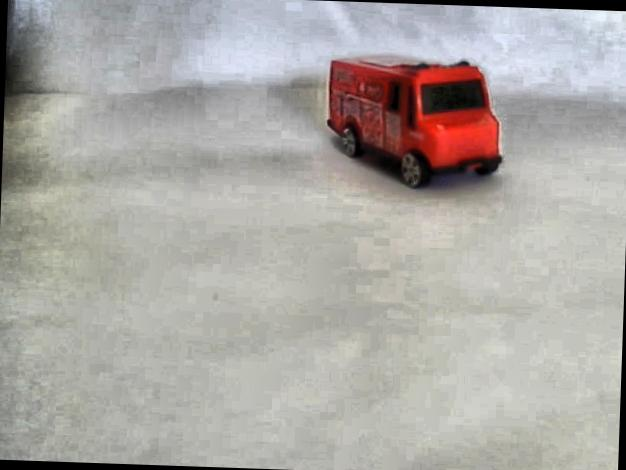fire_truck: (318, 49, 507, 190), (343, 65, 391, 117)
